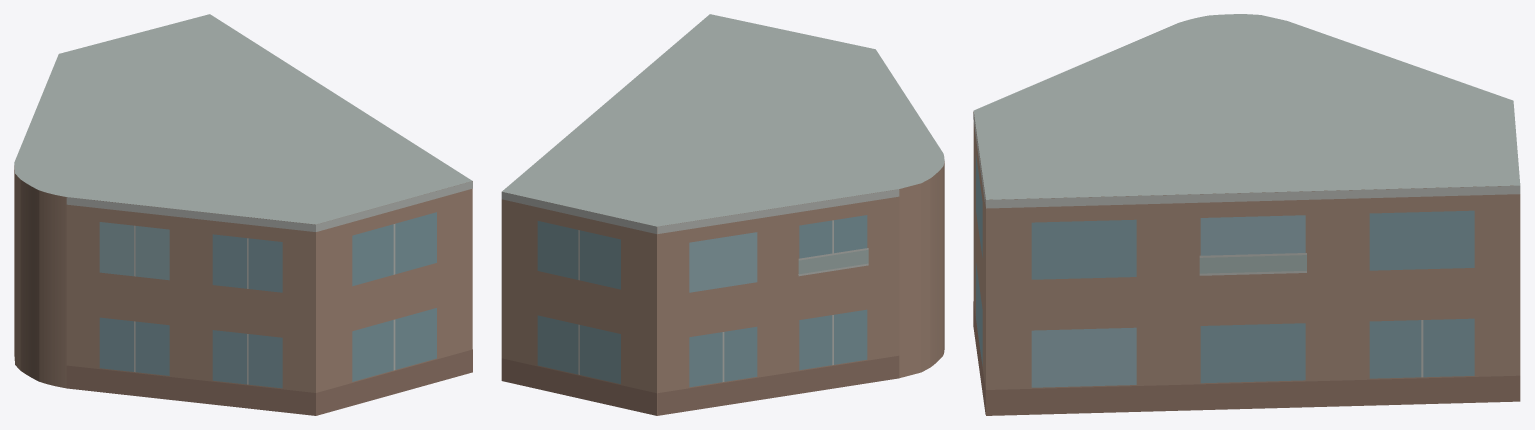
Rendered from survey-upis-32655094.glb.
3 renders of one model, left to right at view 1: azimuth 30°, elevation 25°; view 2: azimuth 150°, elevation 25°; view 3: azimuth 270°, elevation 25°, orthographic. The views are drawn at different scales.
Visible parts, largest first — view 1: survey-upis-32655094.tmp; view 2: survey-upis-32655094.tmp; view 3: survey-upis-32655094.tmp.
Boxes of the visible parts, left/top/right/bottom form: survey-upis-32655094.tmp: left=14, top=14, right=472, bottom=415; survey-upis-32655094.tmp: left=501, top=14, right=944, bottom=415; survey-upis-32655094.tmp: left=973, top=14, right=1520, bottom=415.
Size of the model in its own units: 11.27 by 6.1 by 14.01.
